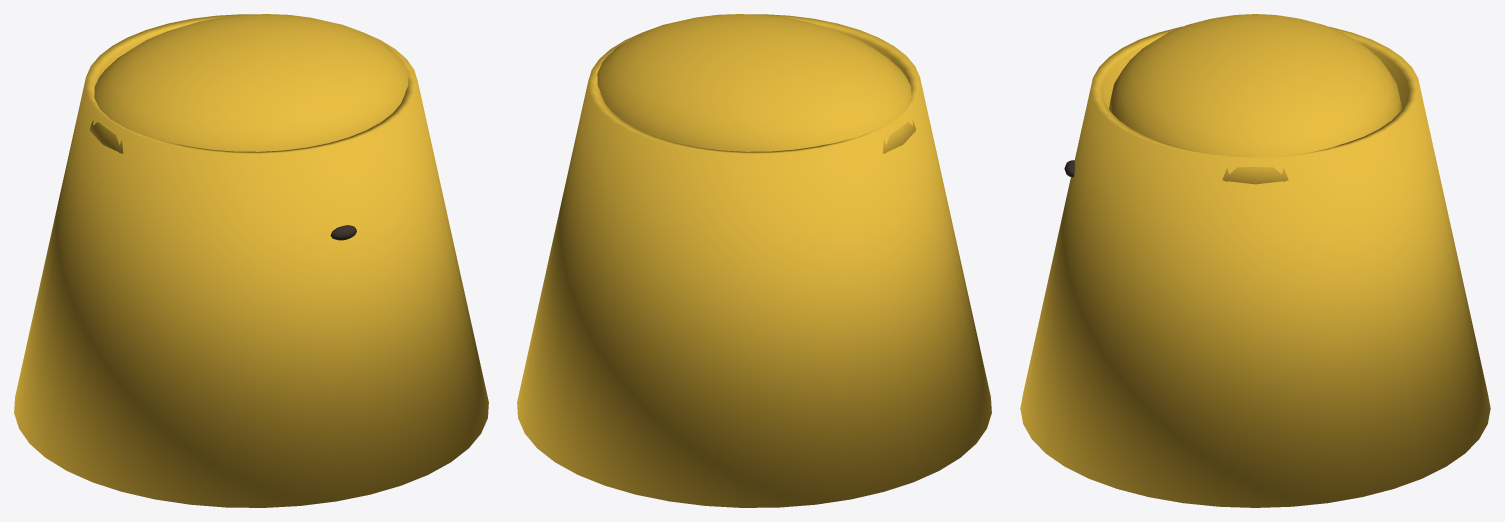
The model's file is coat_rain.glb.
The picture shows the model from 3 angles, left to right: view 1: azimuth 30°, elevation 25°; view 2: azimuth 150°, elevation 25°; view 3: azimuth 270°, elevation 25°; orthographic projection.
Visible parts, largest first — view 1: raincoat, raincoat_top; view 2: raincoat, raincoat_top; view 3: raincoat, raincoat_top.
Boxes of the visible parts, left/top/right/bottom form: raincoat: left=14, top=14, right=488, bottom=507; raincoat_top: left=90, top=14, right=408, bottom=153; raincoat: left=517, top=14, right=991, bottom=507; raincoat_top: left=597, top=14, right=915, bottom=153; raincoat: left=1020, top=26, right=1490, bottom=507; raincoat_top: left=1109, top=14, right=1401, bottom=184.
Bounding box in the file's own units: 0.8 × 0.6839 × 0.8.
